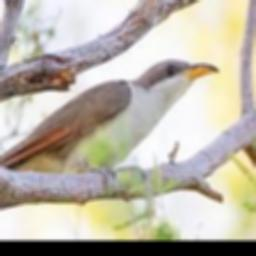Cuckoo: (0, 60, 219, 186)
